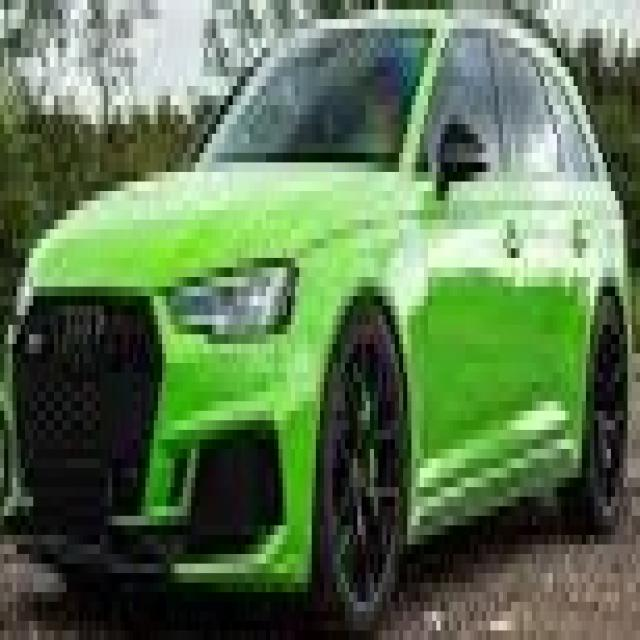green: (3, 8, 633, 625)
